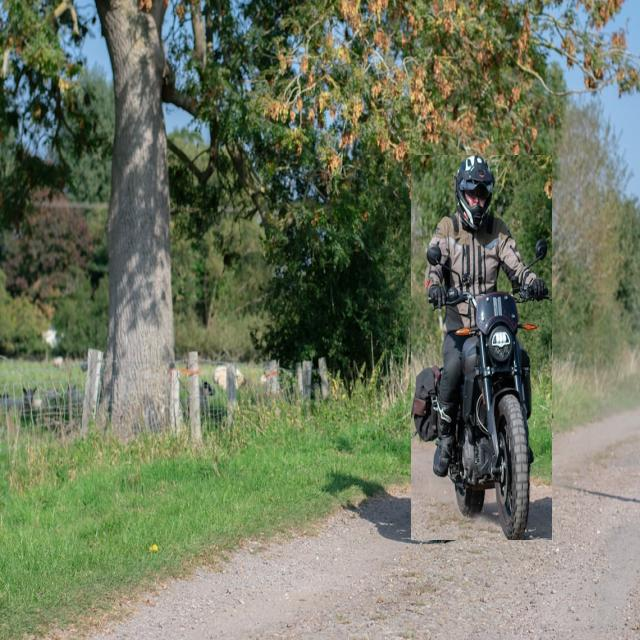motorcycle: (411, 155, 552, 540)
